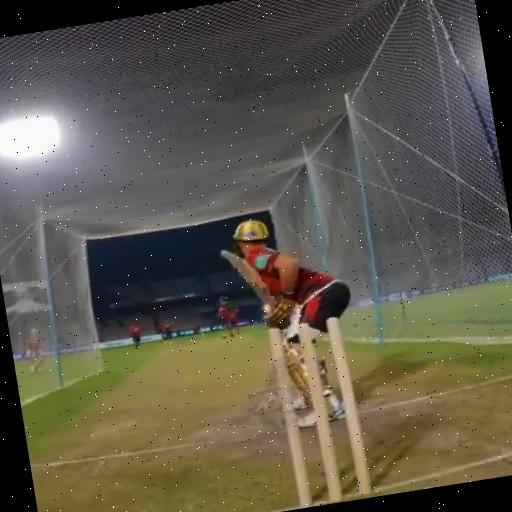Cricket bat: (221, 250, 273, 303)
